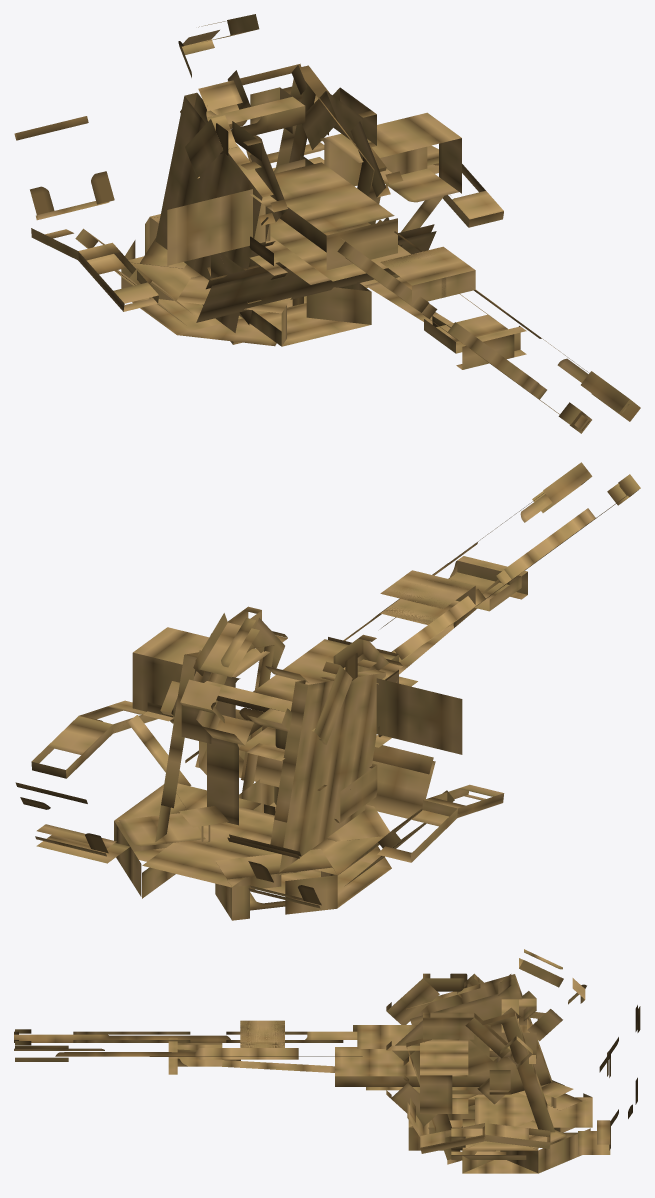
File: zu23_turret.obj
3 views of the same model, one above another, from view 1: azimuth 30°, elevation 25°; view 2: azimuth 150°, elevation 25°; view 3: azimuth 270°, elevation 25° (orthographic). The views are drawn at different scales.
Parts seen in each view (by area): view 1: turret, gun; view 2: turret, gun; view 3: turret, gun.
Part boxes in pixels (x1,y1,x2,y2): turret: (14, 14, 503, 346); gun: (167, 112, 640, 433); turret: (15, 606, 504, 920); gun: (132, 462, 640, 760); turret: (386, 949, 640, 1173); gun: (14, 1020, 490, 1113).
Size of the model in its own units: 2.13 by 1.46 by 4.38.
